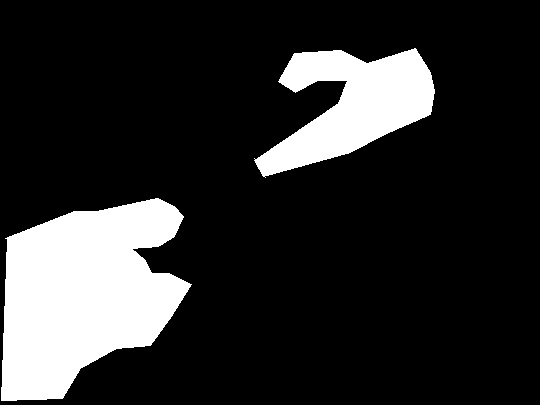Fire: (1, 199, 183, 368), (232, 49, 435, 187)
